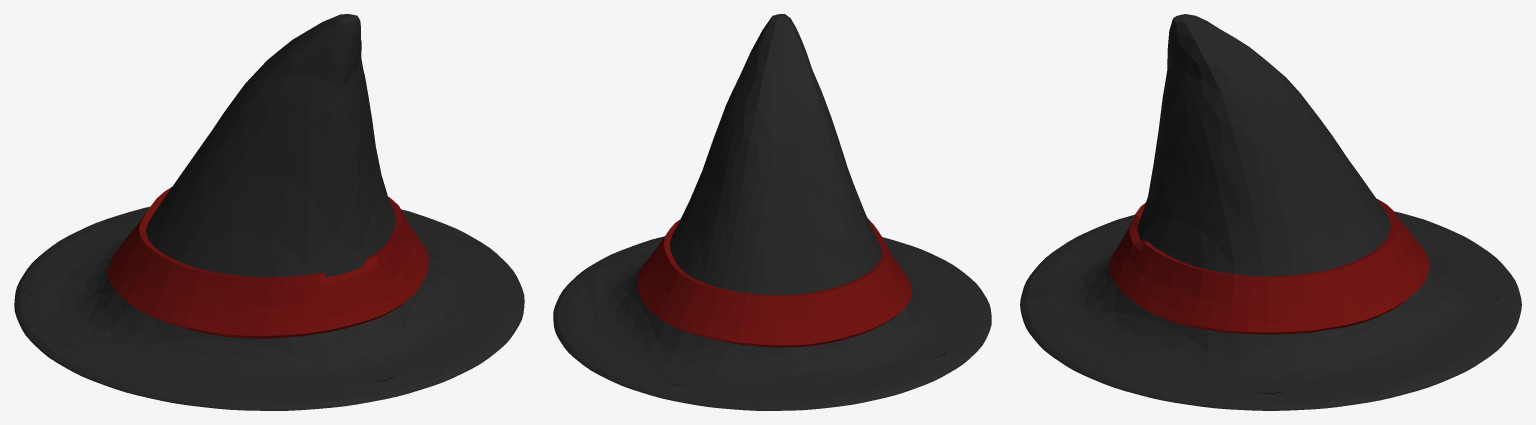
File: WizzardHat.fbx
3 views of the same model, side by side, from view 1: azimuth 30°, elevation 25°; view 2: azimuth 150°, elevation 25°; view 3: azimuth 270°, elevation 25° (orthographic). The views are drawn at different scales.
Parts seen in each view (by area): view 1: Circle, Torus; view 2: Circle, Torus; view 3: Circle, Torus.
Boxes of the visible parts, <box> form: Circle: <box>14,14,524,410</box>; Torus: <box>108,187,428,338</box>; Circle: <box>553,14,991,410</box>; Torus: <box>637,219,912,347</box>; Circle: <box>1020,14,1521,410</box>; Torus: <box>1108,199,1429,334</box>.
Size of the model in its own units: 228 by 154 by 228.
